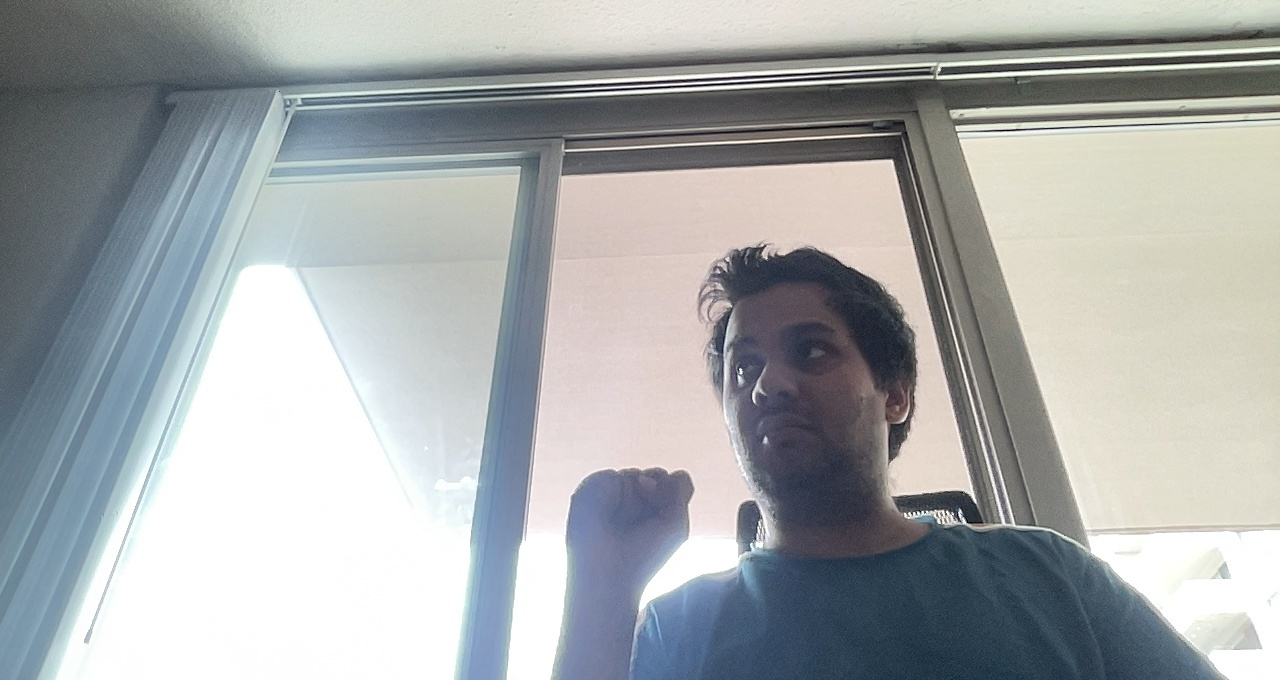closedfist: (564, 461, 704, 572)
